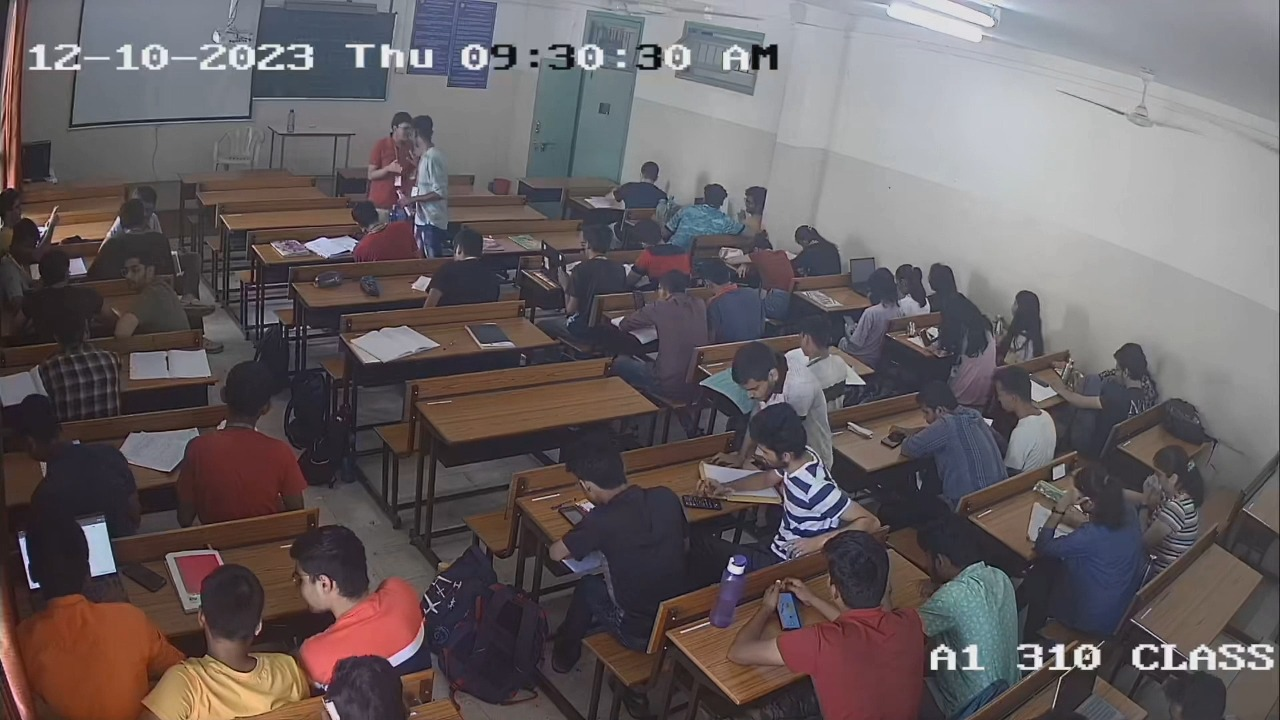cell-phones: (122, 559, 168, 594), (774, 590, 803, 631), (557, 504, 591, 530), (681, 493, 724, 512), (880, 429, 909, 450), (1050, 461, 1068, 482), (917, 327, 933, 350), (1029, 374, 1051, 390), (841, 313, 858, 331)
person: (772, 527, 926, 720), (147, 563, 309, 720), (558, 428, 691, 601), (730, 404, 842, 549), (905, 377, 1006, 499), (1126, 444, 1200, 561), (1077, 346, 1150, 427), (935, 291, 997, 370), (856, 270, 898, 332)
